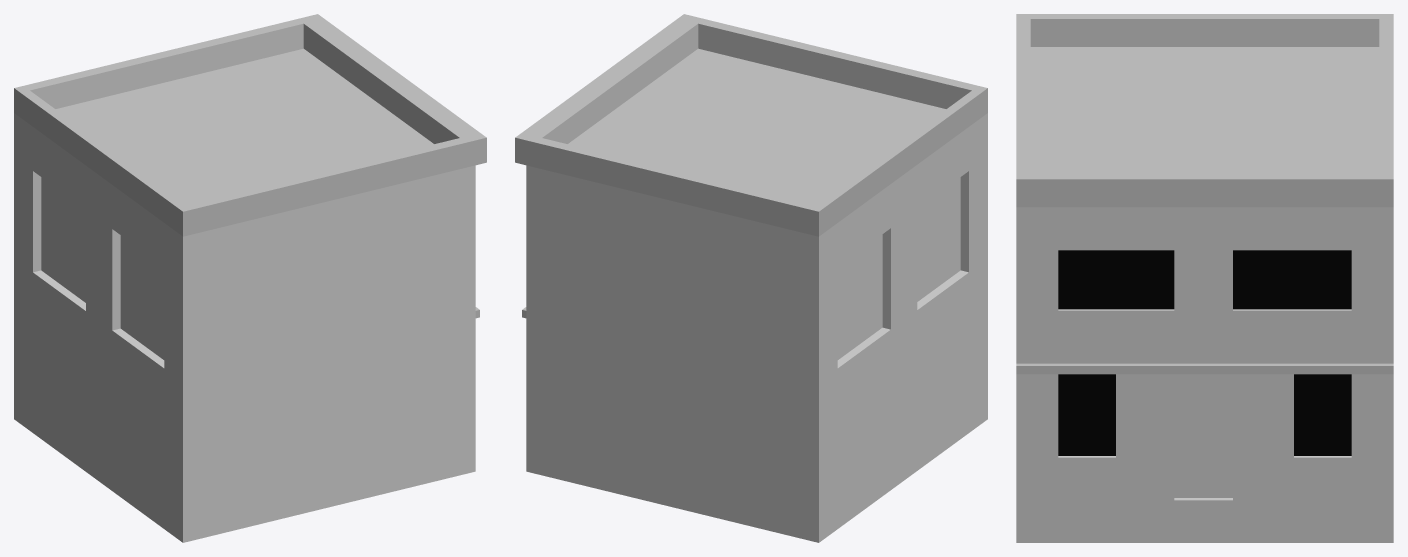
Rendered from _uilding6.fbx.
3 renders of one model, left to right at view 1: azimuth 30°, elevation 25°; view 2: azimuth 150°, elevation 25°; view 3: azimuth 270°, elevation 25°, orthographic. The views are drawn at different scales.
Visible parts, largest first — view 1: BrickBuilding6; view 2: BrickBuilding6; view 3: BrickBuilding6.
Part boxes in pixels (bbox=[...]): BrickBuilding6: bbox=[14, 14, 486, 542]; BrickBuilding6: bbox=[515, 14, 987, 542]; BrickBuilding6: bbox=[1016, 14, 1393, 542].
Bounding box in the file's own units: 649 × 676 × 625.
